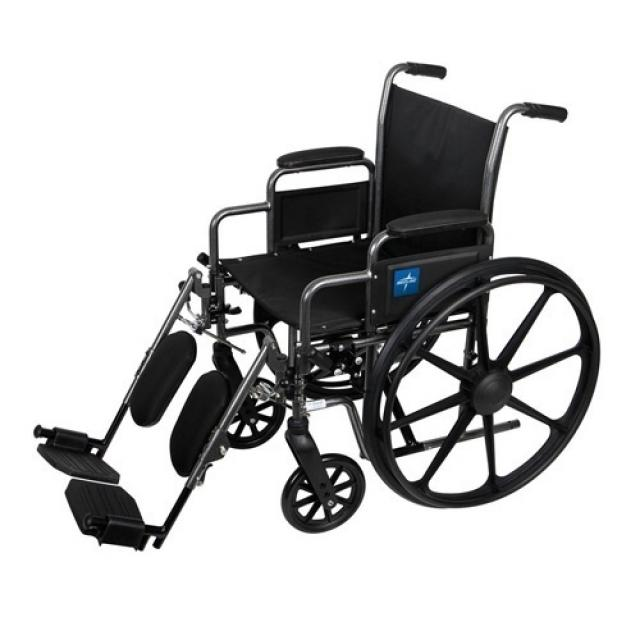wheelchair: (32, 48, 627, 572)
